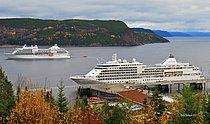Ship: (67, 52, 151, 88), (128, 54, 210, 90), (3, 44, 75, 62)
